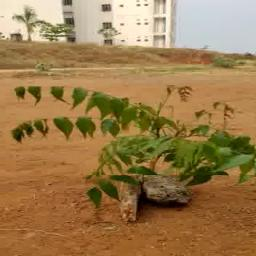Azadiractha Indica: (6, 86, 255, 176)
